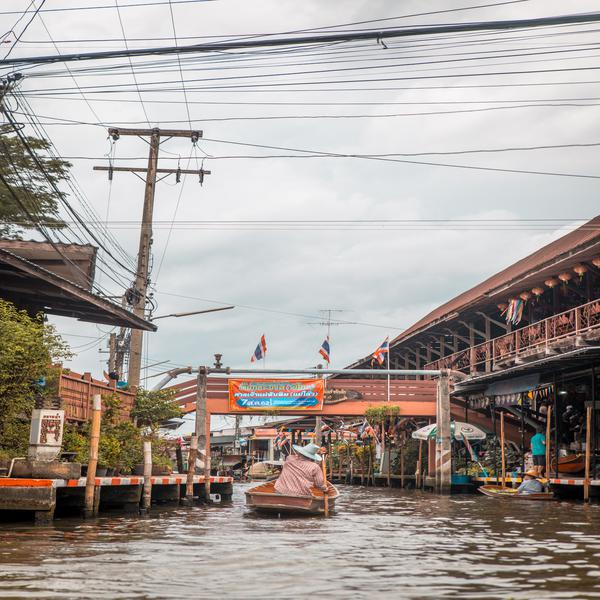utility_pole: (90, 113, 215, 234)
